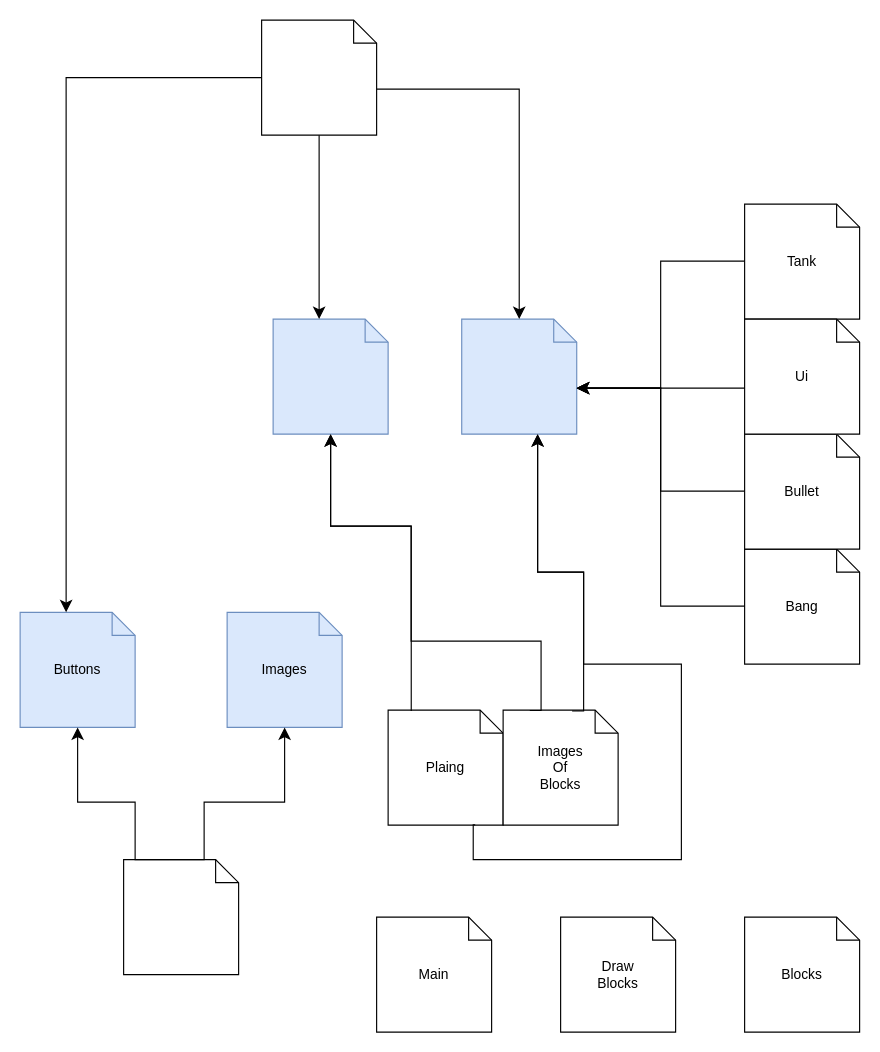
Image size: 880x1052. Some labels were removed from this diagram. The shapes that lost their labels are listed below. From the top down, each one's centre as x and y in pixels, then its label:
At (x=318, y=77): "Draw Intro".
At (x=330, y=376): "Music".
At (x=519, y=376): "Sounds".
At (x=180, y=916): "Global".
